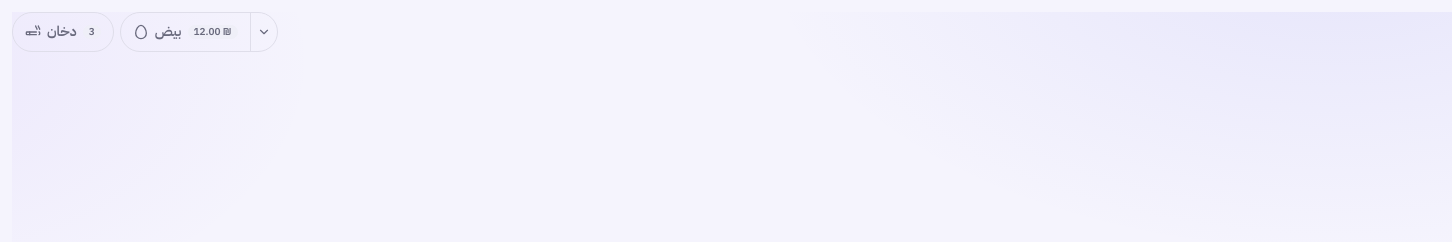
it: opening a card › reveals its options, most-sold first
What coordinates should you click on to do the following:
click the button with test id "quick-card-smoke"
I would click on:
 (63, 32)
Its box is [13, 13, 113, 51].
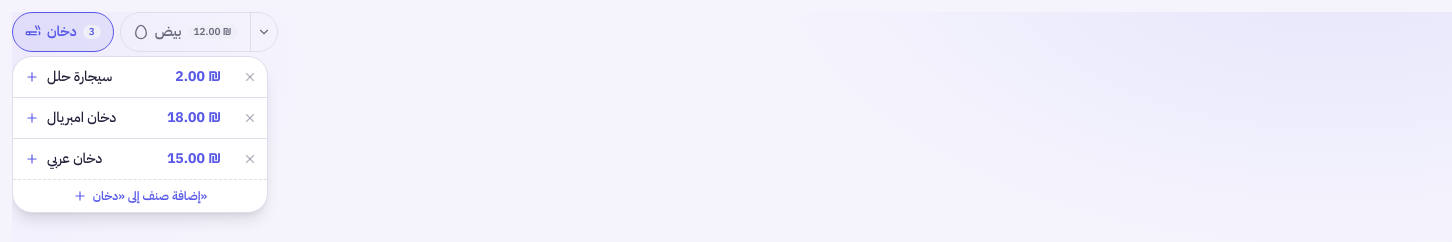
Now the menu item "سيجارة حلل 2.00 ₪" is shown, box [13, 57, 233, 97]
